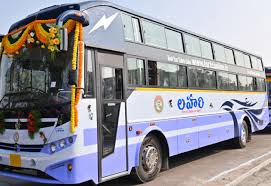bus: (1, 1, 269, 186)
